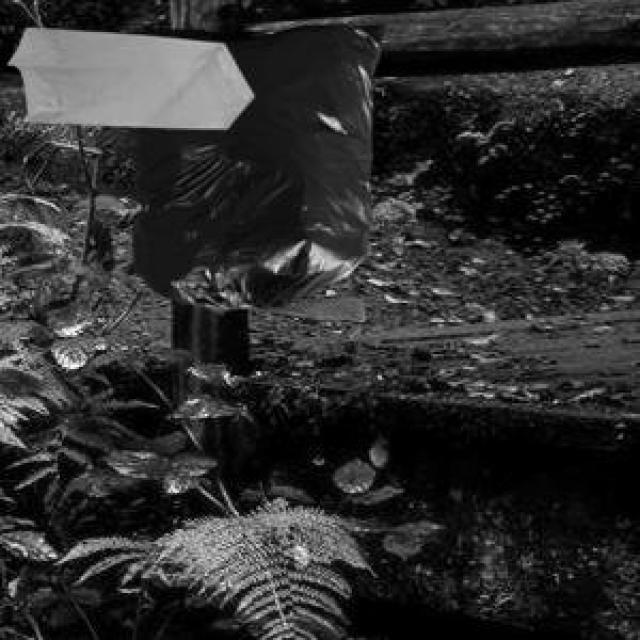miscellaneous trash: (114, 21, 390, 318)
